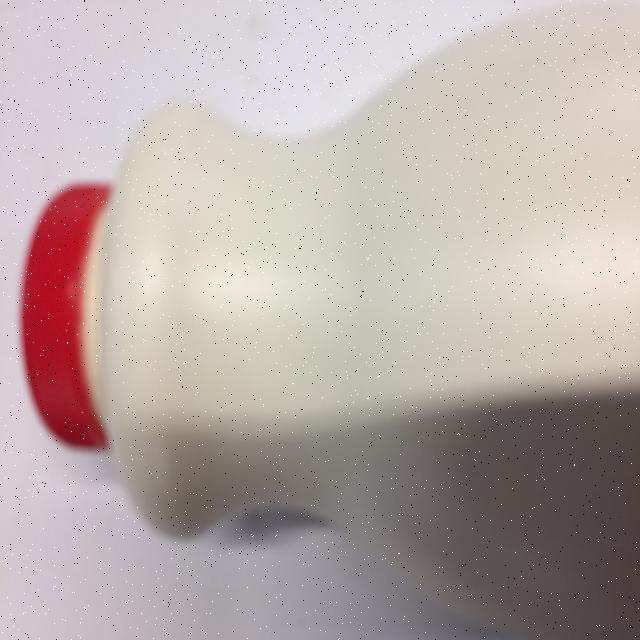plastic: (28, 30, 640, 640)
